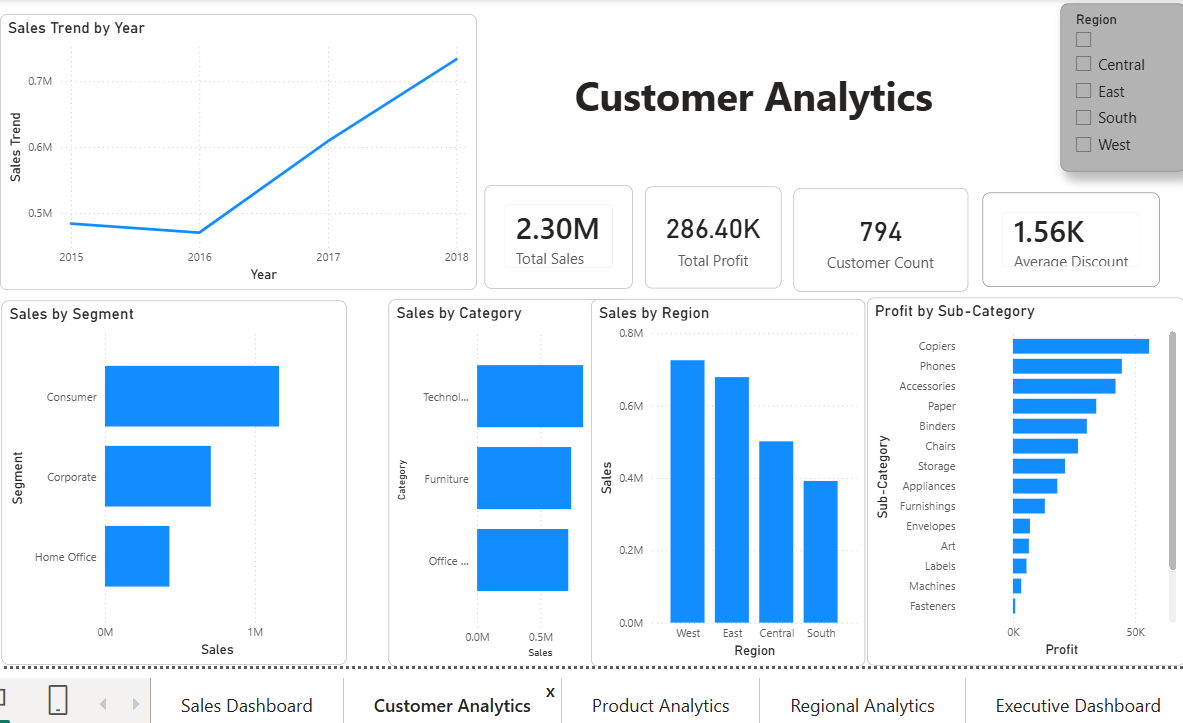

Layout of this report page (visuals, bound fields, positions):
{"tool":"powerbi","page":{"name":"Customer Analytics","canvas":[1280,720],"ordinal":1},"visuals":[{"type":"card","fields":{"Values":["Count(superstore.Customer ID)"]},"box":[856.1,203.3,188.3,111.7],"z":0},{"type":"card","fields":{"Values":["Sum(superstore.Profit)"]},"box":[696.3,201.9,147.3,110.1],"z":1000},{"type":"clusteredBarChart","fields":{"Y":["Sum(superstore.Sales)"],"Category":["superstore.Segment"]},"box":[1.7,325,372.8,393.3],"z":2000},{"type":"cardVisual","fields":{"Data":["Sum(superstore.Sales)"]},"box":[523.6,200.2,160.3,111.7],"z":3000},{"type":"clusteredBarChart","fields":{"Category":["superstore.Sub-Category"],"Y":["Sum(superstore.Profit)"]},"box":[936.7,322.8,343.3,397.2],"z":4000},{"type":"slicer","fields":{"Values":["superstore.Region"]},"box":[1145,5,135,181.1],"z":5000},{"type":"clusteredBarChart","fields":{"Category":["superstore.Category"],"Y":["Sum(superstore.Sales)"]},"box":[419.4,323.3,255.8,396.7],"z":6000},{"type":"lineChart","fields":{"Category":["superstore.Order Date.Variation.Date Hierarchy.Year","superstore.Order Date.Variation.Date Hierarchy.Quarter","superstore.Order Date.Variation.Date Hierarchy.Month","superstore.Order Date.Variation.Date Hierarchy.Day"],"Y":["Sum(superstore.Sales)"]},"box":[0,16.2,514.9,297.9],"z":7000},{"type":"clusteredColumnChart","fields":{"Category":["superstore.Region"],"Y":["Sum(superstore.Sales)"]},"box":[637.4,323.3,296.3,396.7],"z":8000},{"type":"textbox","box":[615,69.4,420,73.9],"z":9000},{"type":"cardVisual","fields":{"Data":["Sum(superstore.Discount)"]},"box":[1060.1,209.4,191.1,102],"z":10000}]}

Visuals, with their boxes on the page's 1280x720 design canvas (x1, y1, x2, y2). These are canvas units, not pixel positions in the 1183x723 screenshot, which may show the page scaled, cropped or inside an application window:
card - Count(superstore.Customer ID): bbox=(856, 203, 1044, 315)
card - Sum(superstore.Profit): bbox=(696, 202, 844, 312)
clusteredBarChart - Sum(superstore.Sales) x superstore.Segment: bbox=(2, 325, 374, 718)
cardVisual - Sum(superstore.Sales): bbox=(524, 200, 684, 312)
clusteredBarChart - superstore.Sub-Category x Sum(superstore.Profit): bbox=(937, 323, 1280, 720)
slicer - superstore.Region: bbox=(1145, 5, 1280, 186)
clusteredBarChart - superstore.Category x Sum(superstore.Sales): bbox=(419, 323, 675, 720)
lineChart - superstore.Order Date.Variation.Date Hierarchy.Year x superstore.Order Date.Variation.Date Hierarchy.Quarter: bbox=(0, 16, 515, 314)
clusteredColumnChart - superstore.Region x Sum(superstore.Sales): bbox=(637, 323, 934, 720)
textbox: bbox=(615, 69, 1035, 143)
cardVisual - Sum(superstore.Discount): bbox=(1060, 209, 1251, 311)
